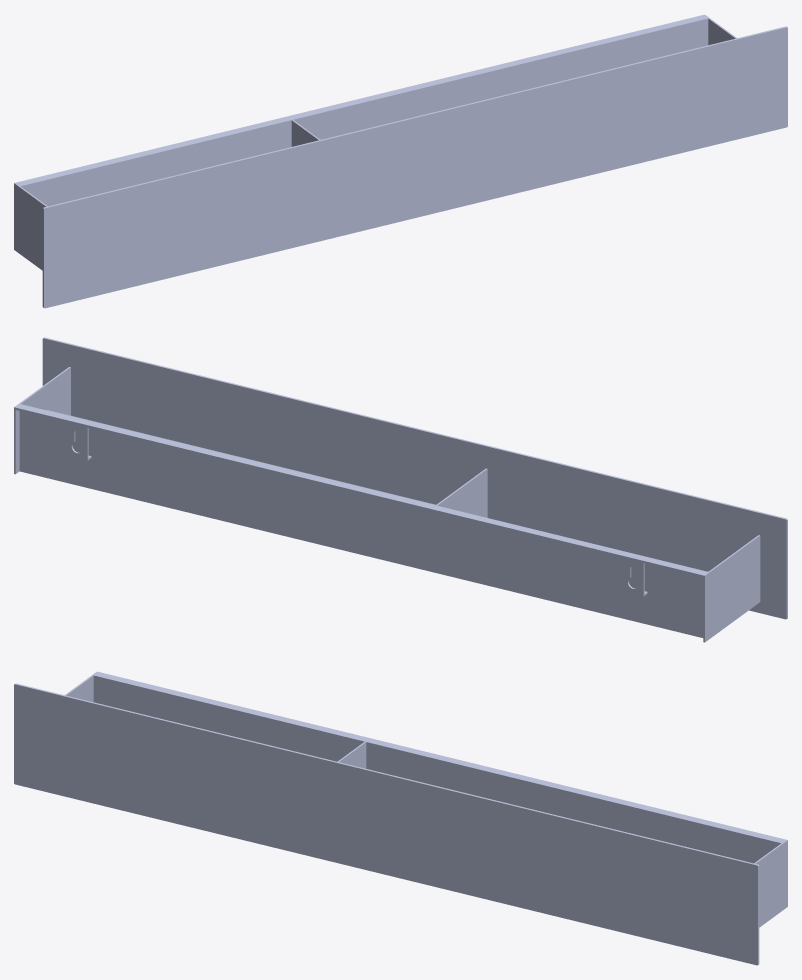
File: skyline-double.2702298909.glb
3 views of the same model, one above another, from view 1: azimuth 30°, elevation 25°; view 2: azimuth 150°, elevation 25°; view 3: azimuth 330°, elevation 25° (orthographic).
Visible parts, largest first — view 1: NAUO1; view 2: NAUO1; view 3: NAUO1.
Boxes of the visible parts, <box> form: NAUO1: <box>14,14,787,308</box>; NAUO1: <box>14,337,787,642</box>; NAUO1: <box>14,671,787,965</box>.
Size of the model in its own units: 0.7 by 0.09 by 0.092.
